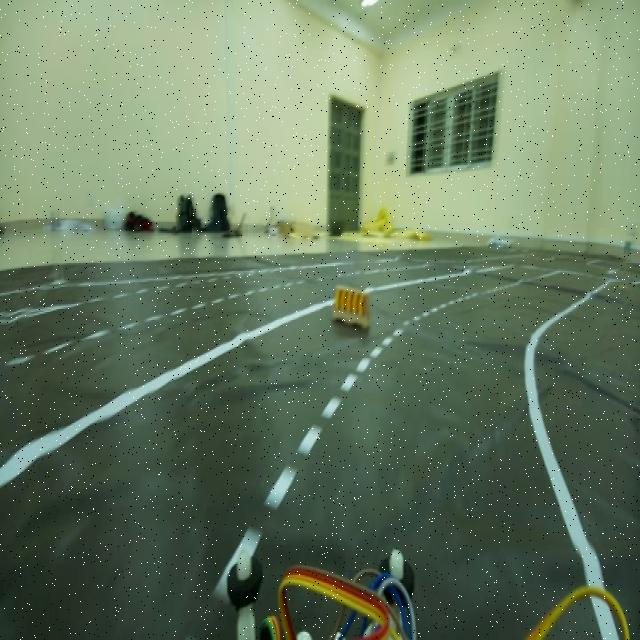roadblock: (330, 278, 370, 346)
